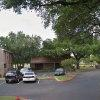Car: (4, 64, 40, 91)
